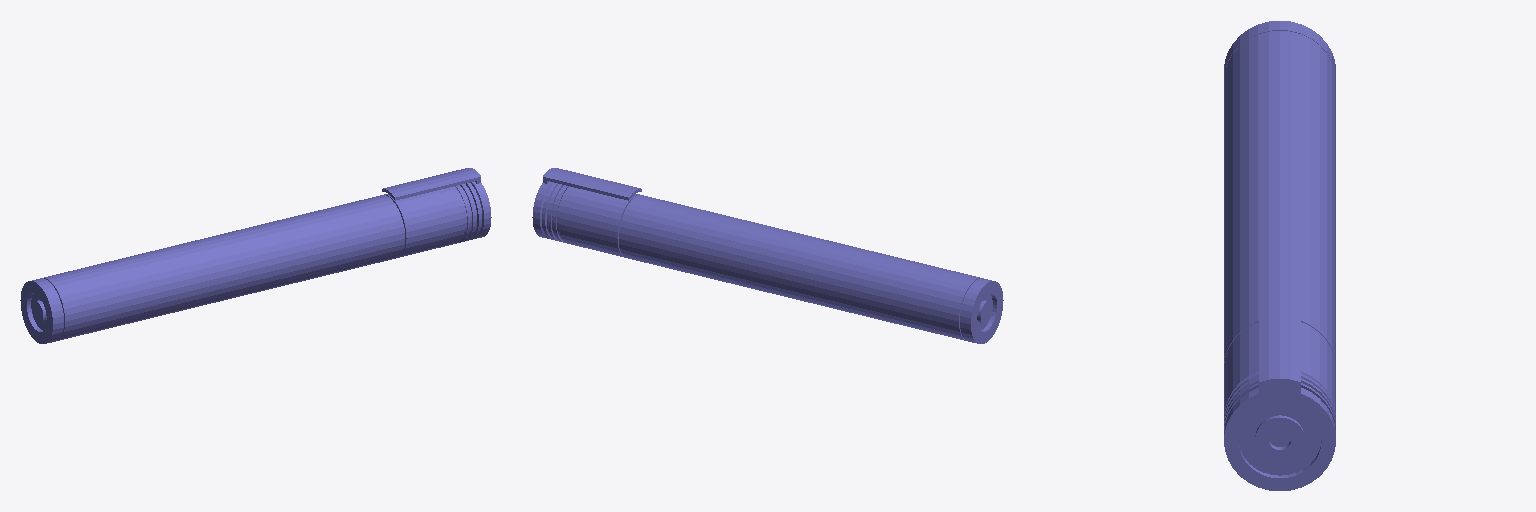
robot.urdf — pen:
<?xml version="1.0" ?>
<robot name="pen">
  <link name="penBody">
    <inertial>
      <origin rpy="0 0 0" xyz="0 0 0"/>
       <mass value="2.0"/>
       <inertia ixx="1" ixy="0" ixz="0" iyy="1" iyz="0" izz="1"/>
    </inertial>
    <visual>
      <origin rpy="0 0 0" xyz="0 0 0"/>
      <geometry>
		<mesh filename="pen.obj" scale="1 1 1"/>
      </geometry>
       <material name="white">
        <color rgba="0.5 0.5 0.8 1"/>
      </material>
    </visual>
    <collision>
      <origin rpy="0 1.570796 0" xyz="0 0 0"/>
      <geometry>
	 	<cylinder radius="0.0125" length="0.2"/>
      </geometry>
    </collision>
  </link>
</robot>

--- Render facts (derived) ---
3 views of the same robot in one strip: view 1: azimuth 30°, elevation 25°; view 2: azimuth 150°, elevation 25°; view 3: azimuth 270°, elevation 25° (orthographic).
Robot: pen — 1 links, 0 joints (none); root link penBody; default pose: every joint at zero.
Visible links, largest first — view 1: penBody; view 2: penBody; view 3: penBody.
Link boxes in pixels (box(x1,y1,x2,y2)): penBody: box(20, 168, 491, 343); penBody: box(532, 168, 1003, 343); penBody: box(1224, 21, 1335, 490).
Size in the robot's own frame: 0.1957 by 0.0252 by 0.0279 metres.
Meshes: 1 distinct files referenced, 1 mesh visuals loaded (1 OBJ).